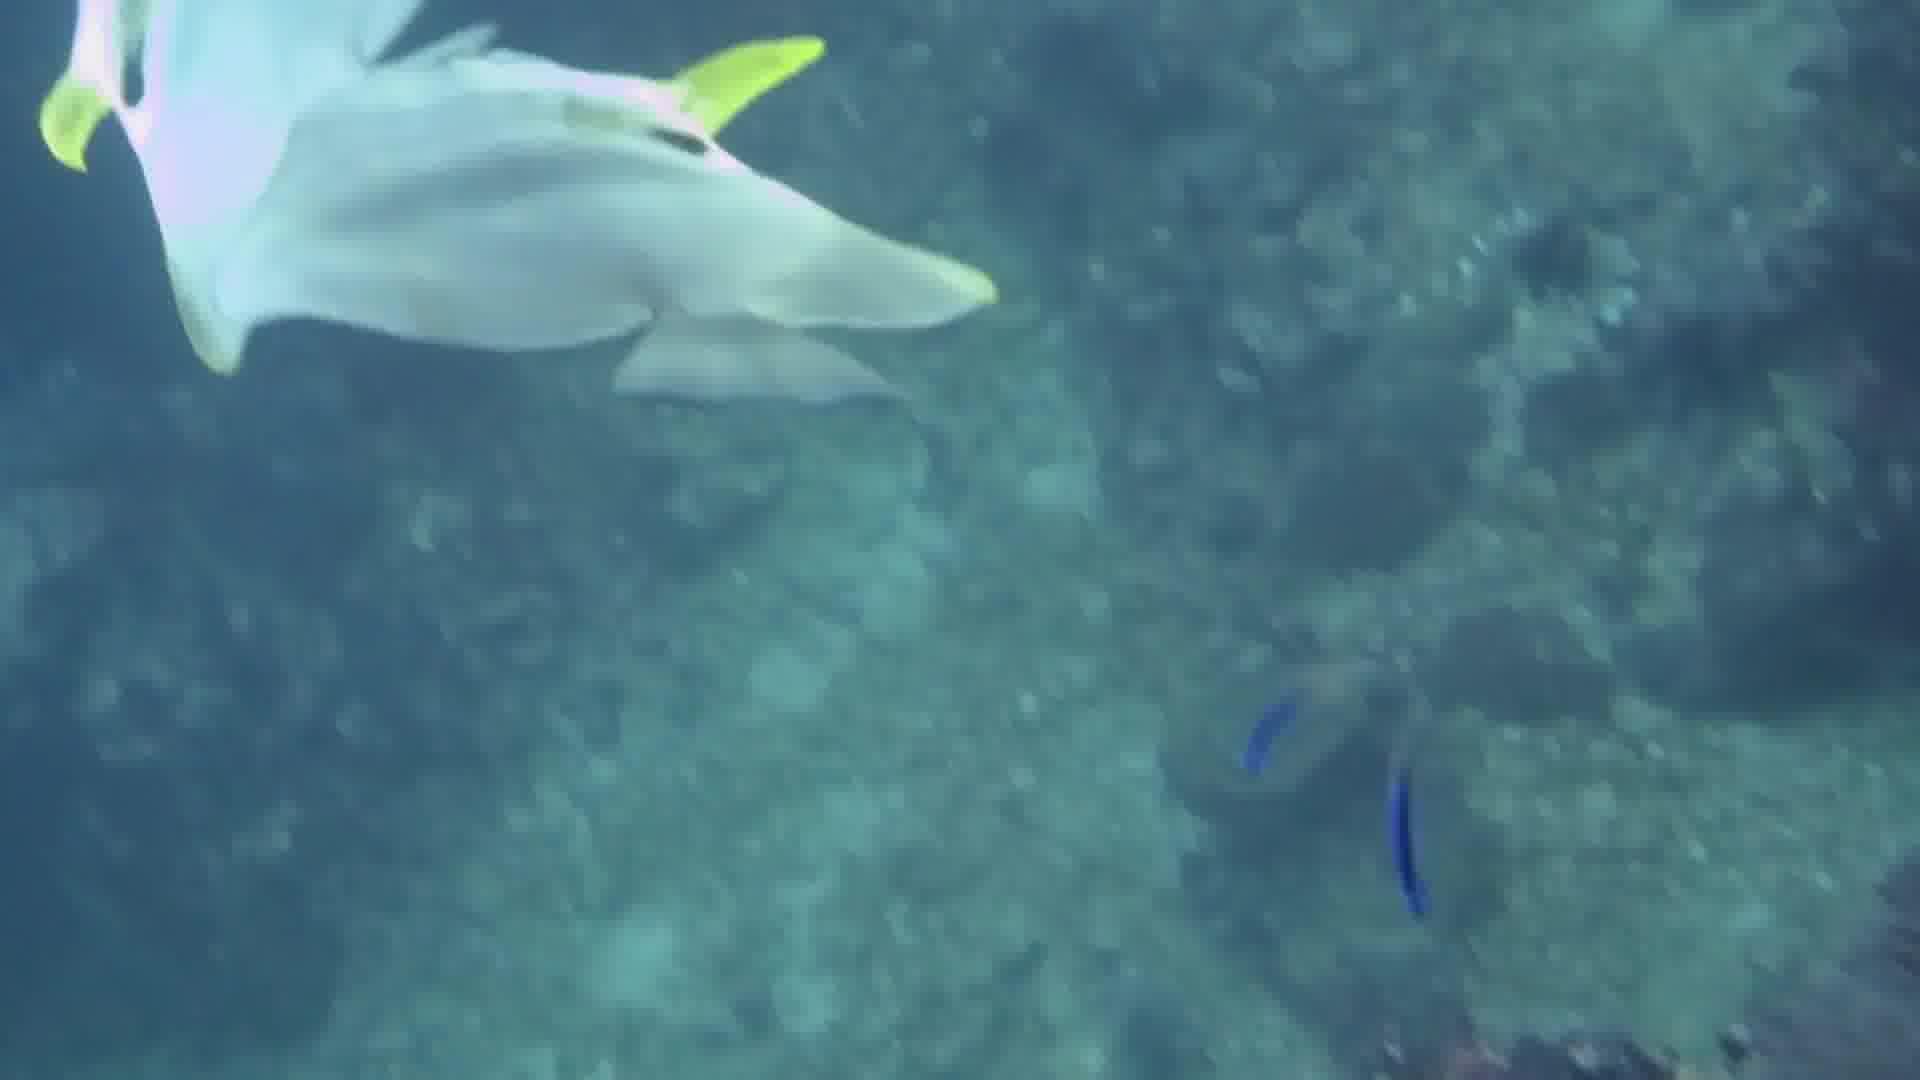Platax teira: (3, 3, 1022, 484)
